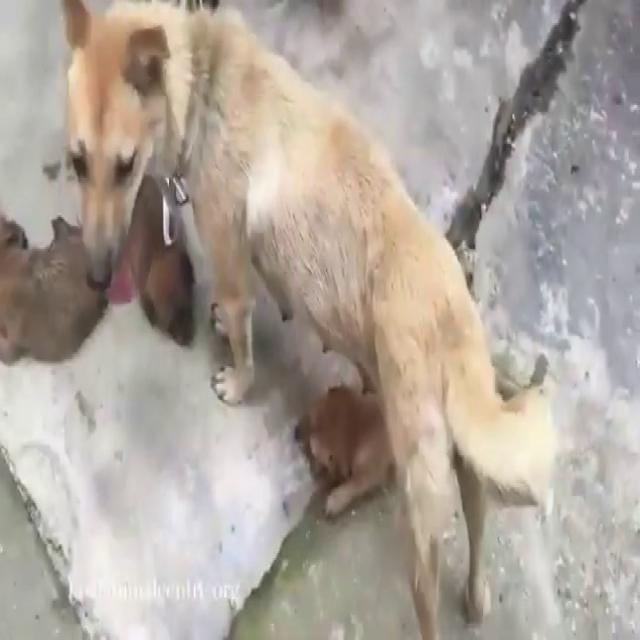normal_animals: (56, 2, 562, 631)
